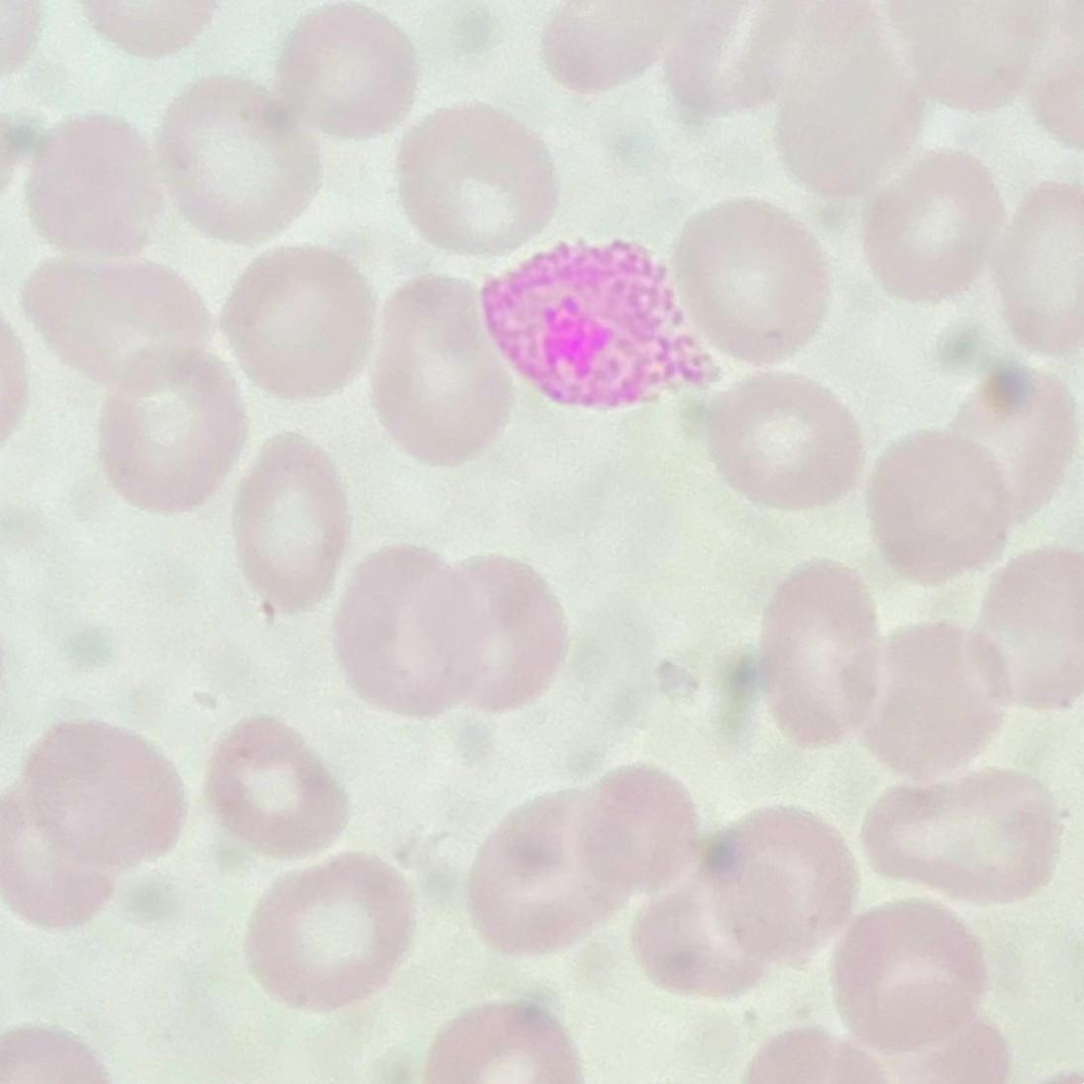Infected: (485, 240, 722, 411)
Uninfected: (469, 779, 630, 959), (370, 276, 519, 468), (669, 194, 836, 365), (861, 767, 1064, 905), (20, 254, 211, 397), (841, 622, 1008, 785), (247, 850, 417, 1008), (394, 99, 560, 259), (95, 347, 254, 514), (162, 80, 321, 245), (337, 545, 484, 717), (22, 723, 189, 872), (416, 551, 569, 712), (701, 808, 856, 964), (834, 901, 988, 1057), (222, 248, 378, 399), (772, 52, 934, 194), (762, 559, 878, 750), (703, 381, 872, 511), (857, 151, 1002, 302), (634, 866, 788, 1007), (865, 436, 1016, 579), (273, 0, 427, 140), (238, 430, 356, 608), (28, 109, 164, 261), (202, 717, 354, 853), (944, 367, 1078, 519), (968, 547, 1084, 711), (578, 765, 701, 899), (998, 181, 1084, 354)
